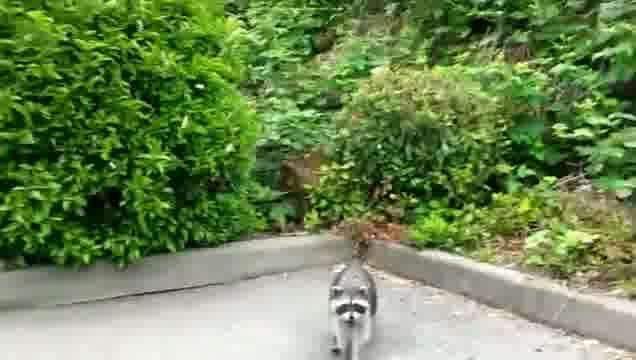raccoon: (330, 236, 378, 360)
